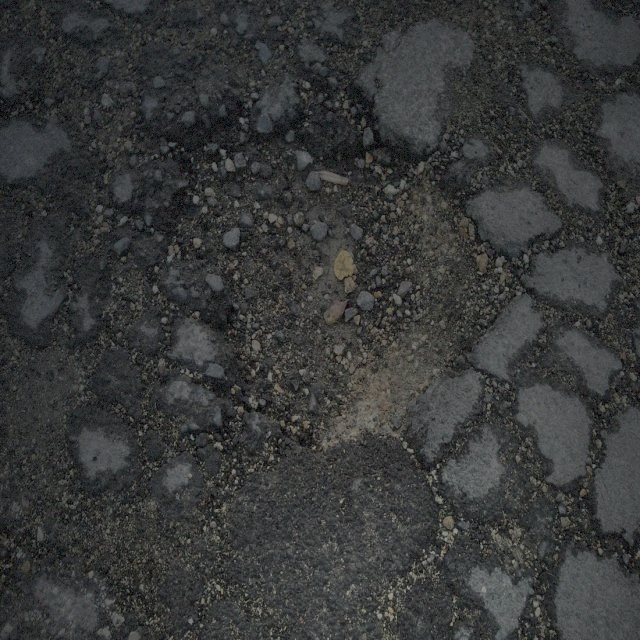pothole: (171, 100, 508, 480)
